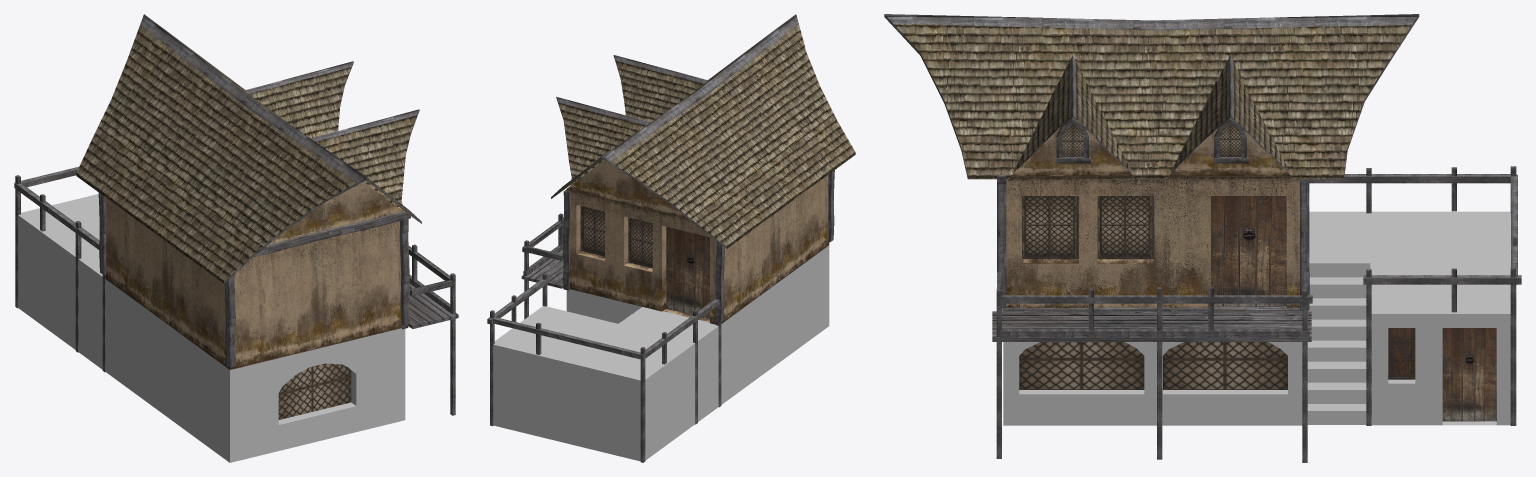
Rendered from v3_house2_LOD1.dae.
3 renders of one model, left to right at view 1: azimuth 30°, elevation 25°; view 2: azimuth 150°, elevation 25°; view 3: azimuth 270°, elevation 25°, orthographic. The views are drawn at different scales.
Visible parts, largest first — view 1: roof_01, bricks_old06, con_dirt_01, woodPlanks, doorwindow_set; view 2: bricks_old06, roof_01, con_dirt_01, woodPlanks, doorwindow_set; view 3: roof_01, bricks_old06, woodPlanks, doorwindow_set, con_dirt_01.
Boxes of the visible parts, x1,y1,x2,y2 form: roof_01: (76,25,421,283); bricks_old06: (18,194,405,462); con_dirt_01: (105,181,402,369); woodPlanks: (14,14,458,415); doorwindow_set: (278,363,351,419); bricks_old06: (493,245,829,461); roof_01: (552,24,855,248); con_dirt_01: (566,160,829,324); woodPlanks: (487,14,834,462); doorwindow_set: (580,206,709,318); roof_01: (893,23,1411,179); bricks_old06: (1003,211,1510,425); woodPlanks: (884,14,1521,462); doorwindow_set: (1019,124,1496,421); con_dirt_01: (1006,118,1305,308).
Bounding box in the file's own units: 6.81 × 8.28 × 12.94.
